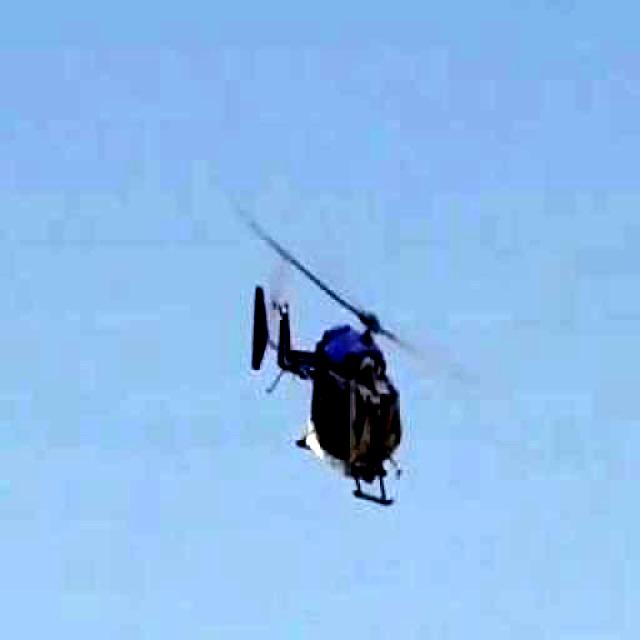drone: (215, 236, 522, 530)
